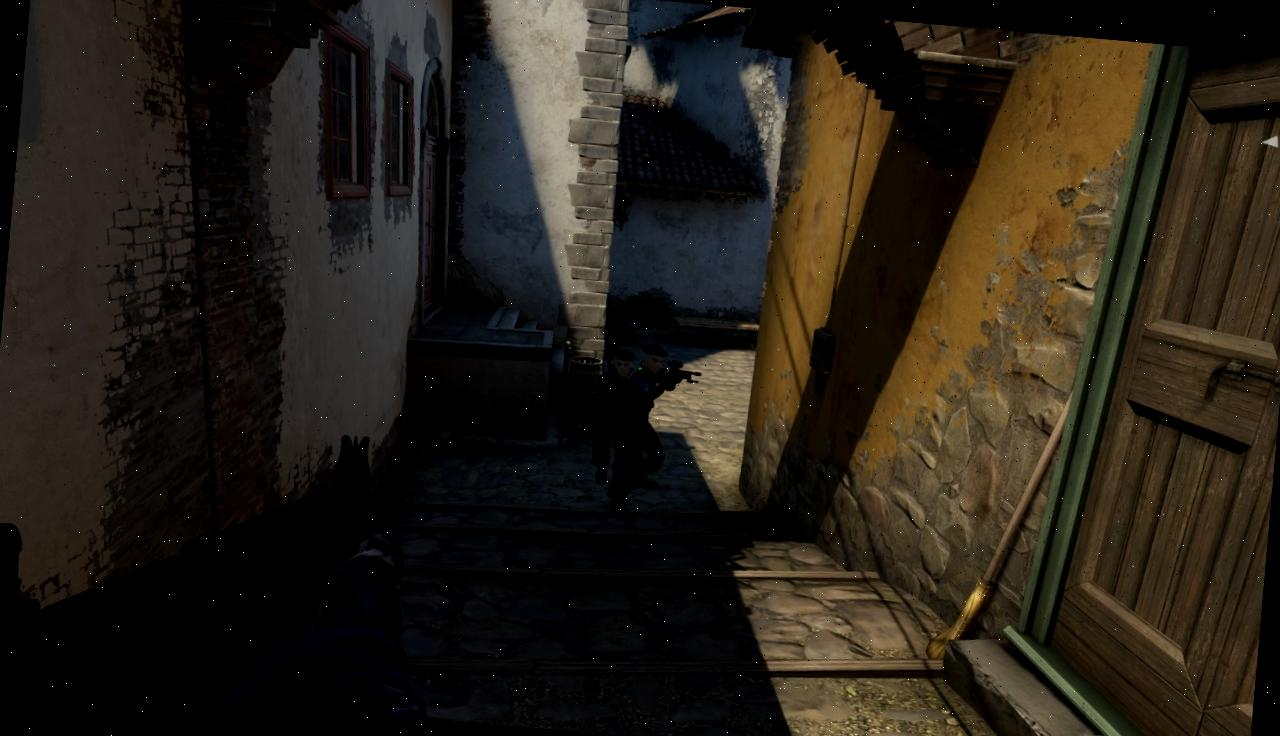rifle: (0, 401, 418, 716)
tt: (619, 343, 674, 513), (591, 349, 633, 488)
tthead: (643, 344, 666, 376), (612, 350, 634, 380)
